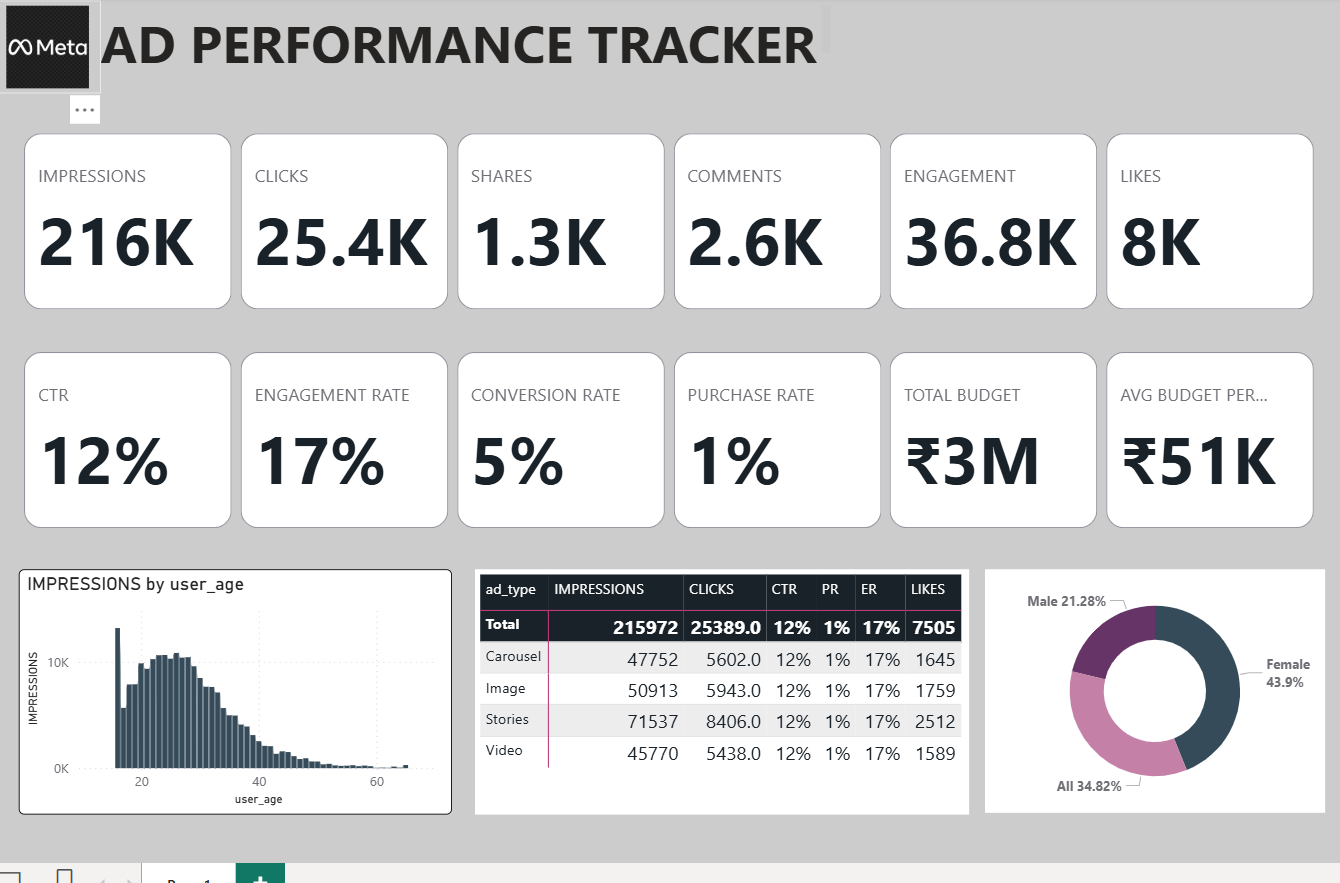

The dashboard page shown, as its layout file describes it:
{"tool":"powerbi","page":{"name":"Page 1","canvas":[1570,900],"ordinal":0},"visuals":[{"type":"textbox","box":[87,11.4,686,62.8],"z":0},{"type":"image","box":[0,11.4,97.1,85.7],"z":1000},{"type":"shape","box":[1261.4,128.7,308.9,696.3],"z":2000},{"type":"advancedSlicerVisual","title":"AD PLATFORM","fields":{"Values":["addds 11.ad_platform"]},"box":[1280.8,259.6,272.4,168.3],"z":3000},{"type":"cardVisual","fields":{"Data":["adds events 11.IMPRESSIONS","adds events 11.CLICKS","adds events 11.SHARES","adds events 11.COMMENTS","adds events 11.ENGAGEMENT","adds events 11.LIKES"]},"box":[21.4,128.4,1200.9,172.6],"z":4000},{"type":"cardVisual","fields":{"Data":["adds events 11.CTR","adds events 11.ENGAGEMENT RATE","adds events 11.CONVERSION RATE","adds events 11.PURCHASE RATE","adds events 11.TOTAL BUDGET","adds events 11.AVG.TOTAL BUDGET"]},"box":[21.4,329.5,1200.9,172.6],"z":5000},{"type":"slicer","fields":{"Values":["SELECT DYNAMIC MEASURE.SELECT DYNAMIC MEASURE"]},"box":[1287.9,469.2,252.4,65.6],"z":6000},{"type":"columnChart","fields":{"Y":["adds events 11.IMPRESSIONS"],"Category":["user 11.user_age"]},"box":[21.4,534.3,398.6,225.7],"z":7000},{"type":"pivotTable","fields":{"Rows":["addds 11.ad_type"],"Values":["adds events 11.IMPRESSIONS","adds events 11.CLICKS","adds events 11.CTR","adds events 11.PURCHASE RATE","adds events 11.ENGAGEMENT RATE","adds events 11.LIKES"]},"box":[441.4,534.3,454.3,225.7],"z":8000},{"type":"slicer","fields":{"Values":["camp 11.name"]},"box":[1287.9,571.9,265.3,89.9],"z":9000},{"type":"slicer","fields":{"Values":["addds 11.target_interests"]},"box":[1280.8,706,279.5,82.7],"z":10000},{"type":"image","box":[1461.9,365.1,98.4,51.3],"z":11000},{"type":"image","box":[1466.2,291,91.3,52.8],"z":12000},{"type":"image","box":[1287.9,128.4,259.6,118.4],"z":13000},{"type":"donutChart","fields":{"Y":["adds events 11.IMPRESSIONS"],"Category":["addds 11.target_gender"]},"box":[910,534.3,312.9,224.3],"z":14000},{"type":"image","box":[1260.8,31.4,107,87],"z":15000},{"type":"image","box":[1369.2,31.4,105.5,87],"z":16000},{"type":"image","box":[1474.6,30.2,86.7,88.1],"z":17000}]}

Visuals, with their boxes on the page's 1570x900 design canvas (x1, y1, x2, y2). These are canvas units, not pixel positions in the 1340x883 screenshot, which may show the page scaled, cropped or inside an application window:
textbox: 87, 11, 773, 74
image: 0, 11, 97, 97
shape: 1261, 129, 1570, 825
"AD PLATFORM" advancedSlicerVisual: 1281, 260, 1553, 428
cardVisual - adds events 11.IMPRESSIONS x adds events 11.CLICKS: 21, 128, 1222, 301
cardVisual - adds events 11.CTR x adds events 11.ENGAGEMENT RATE: 21, 330, 1222, 502
slicer - SELECT DYNAMIC MEASURE.SELECT DYNAMIC MEASURE: 1288, 469, 1540, 535
columnChart - adds events 11.IMPRESSIONS x user 11.user_age: 21, 534, 420, 760
pivotTable - addds 11.ad_type x adds events 11.IMPRESSIONS: 441, 534, 896, 760
slicer - camp 11.name: 1288, 572, 1553, 662
slicer - addds 11.target_interests: 1281, 706, 1560, 789
image: 1462, 365, 1560, 416
image: 1466, 291, 1558, 344
image: 1288, 128, 1548, 247
donutChart - adds events 11.IMPRESSIONS x addds 11.target_gender: 910, 534, 1223, 759
image: 1261, 31, 1368, 118
image: 1369, 31, 1475, 118
image: 1475, 30, 1561, 118
